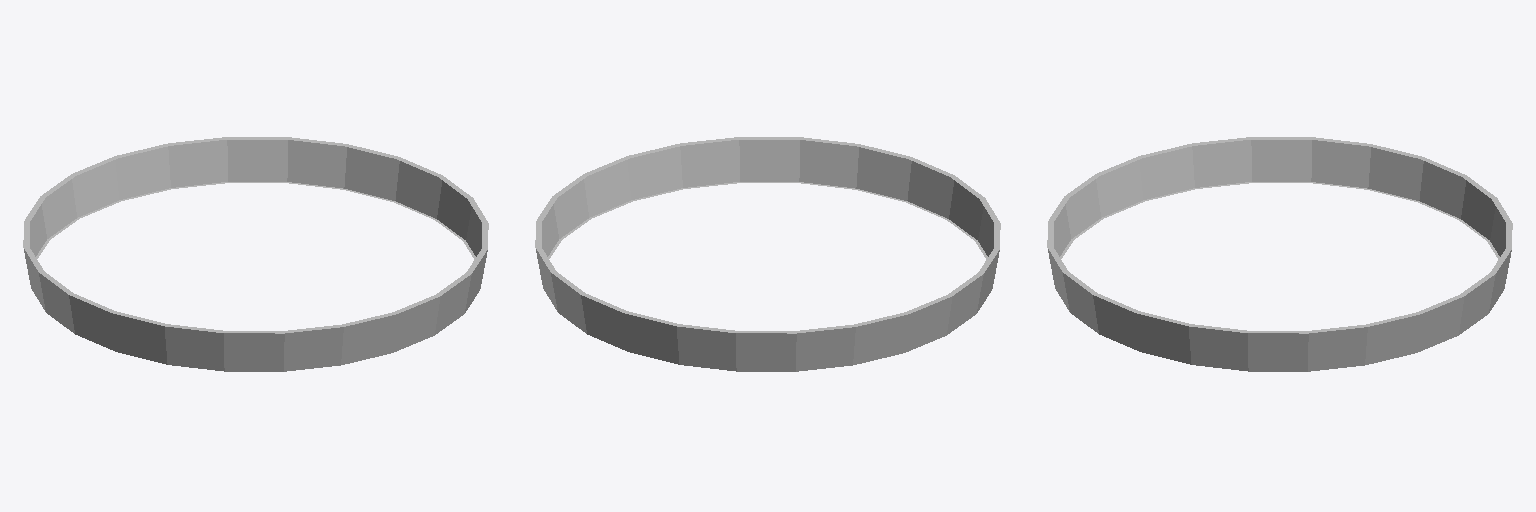
Rendered from original-4.obj.
3 renders of one model, left to right at view 1: azimuth 30°, elevation 25°; view 2: azimuth 150°, elevation 25°; view 3: azimuth 270°, elevation 25°, orthographic.
Parts seen in each view (by area): view 1: #ID57; view 2: #ID57; view 3: #ID57.
Boxes of the visible parts, x1,y1,x2,y2 form: #ID57: [23, 137, 488, 371]; #ID57: [535, 137, 1000, 371]; #ID57: [1047, 137, 1512, 371].
Bounding box in the file's own units: 0.9509 × 0.0937 × 0.9509.